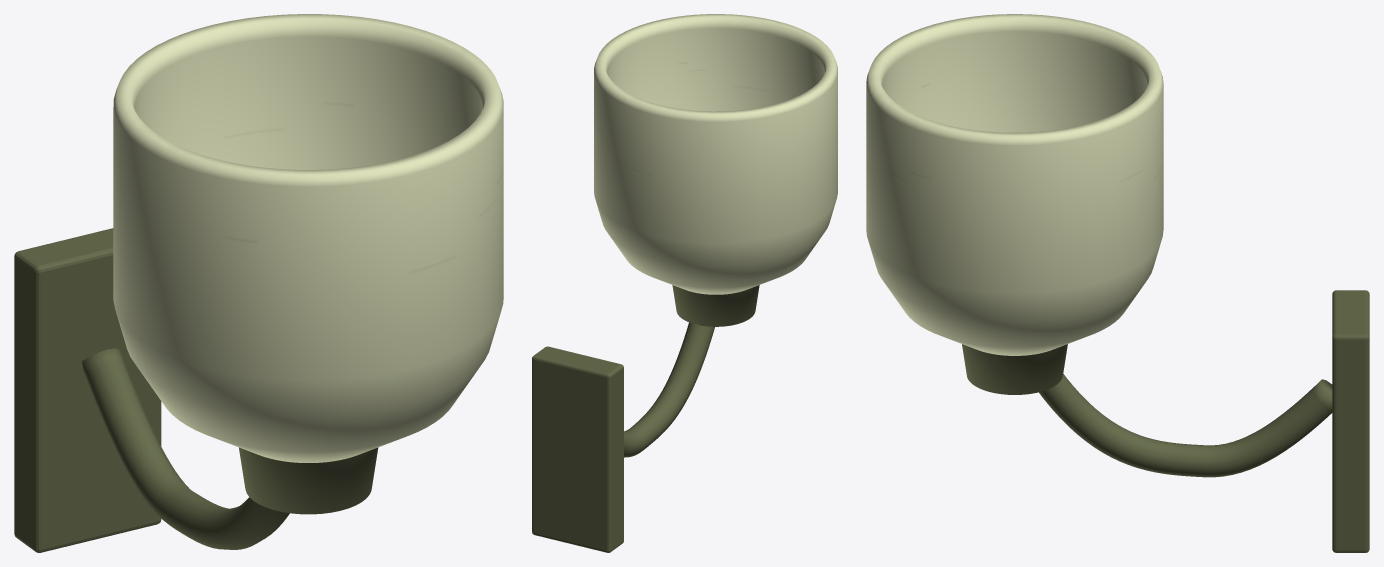
File: CurvedLamp_ARCH01_F1C1r2.fbx
3 renders of one model, left to right at view 1: azimuth 30°, elevation 25°; view 2: azimuth 150°, elevation 25°; view 3: azimuth 270°, elevation 25°, orthographic. The views are drawn at different scales.
Visible parts, largest first — view 1: CurvedLamp; view 2: CurvedLamp; view 3: CurvedLamp.
Boxes of the visible parts, x1,y1,x2,y2 form: CurvedLamp: (14,14,503,552); CurvedLamp: (532,14,837,552); CurvedLamp: (866,14,1369,552).
Bounding box in the file's own units: 0.222 × 0.3751 × 0.376.
Materials: 2 (1 with a texture image).
